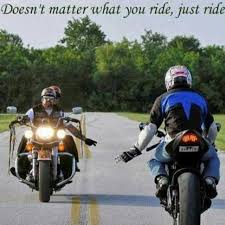helmet: (159, 61, 194, 93), (39, 87, 60, 109)
